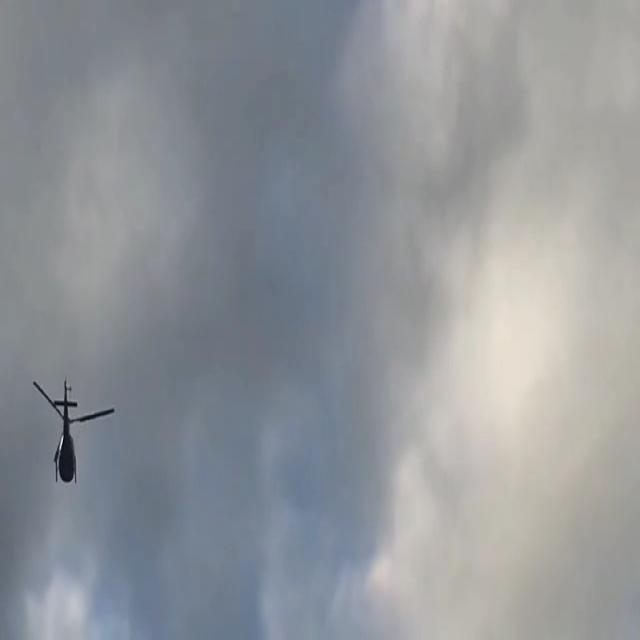Helicopter: (26, 364, 118, 505)
